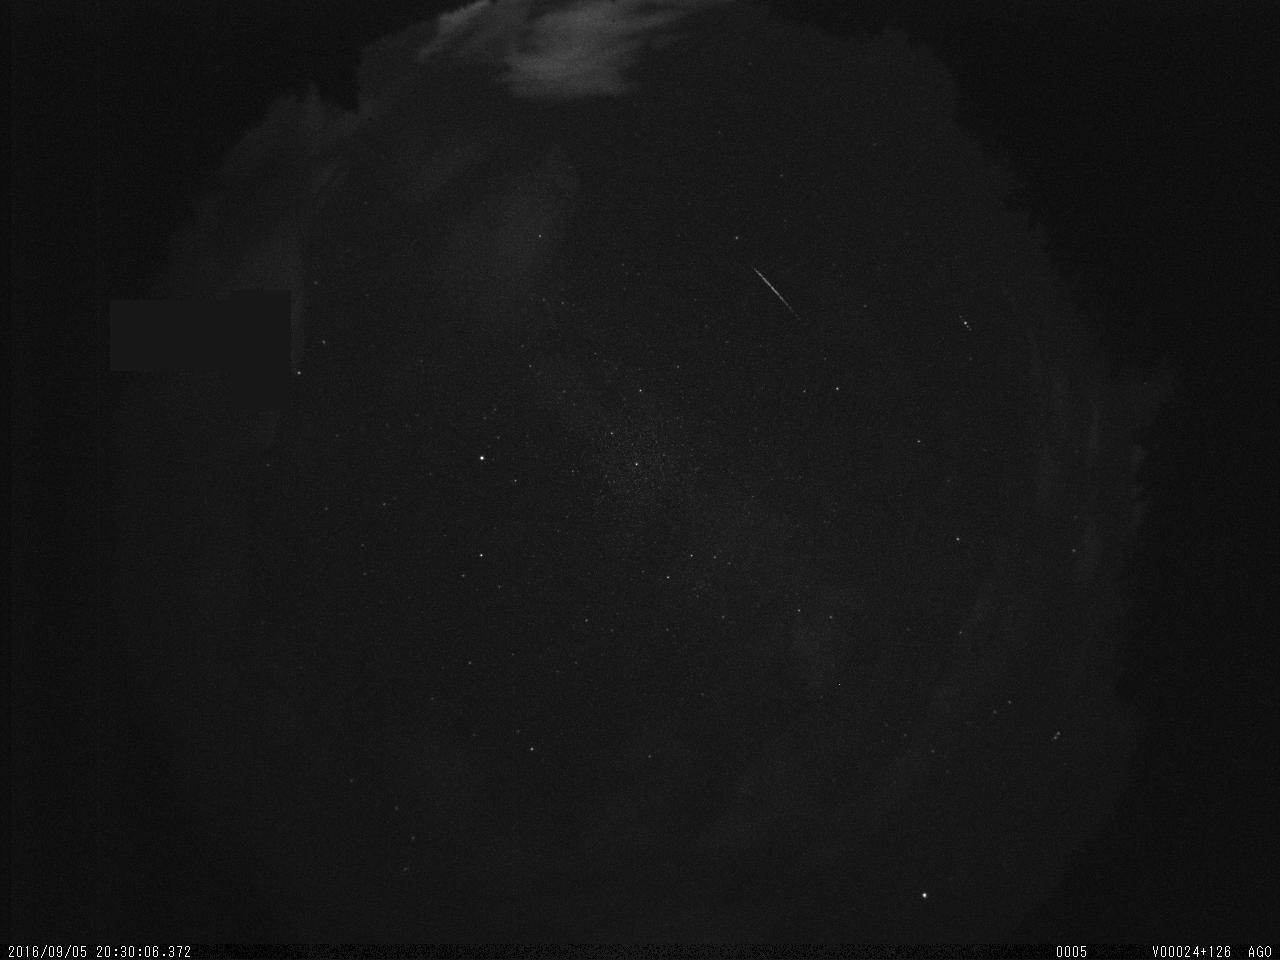meteor: (751, 262, 810, 329)
